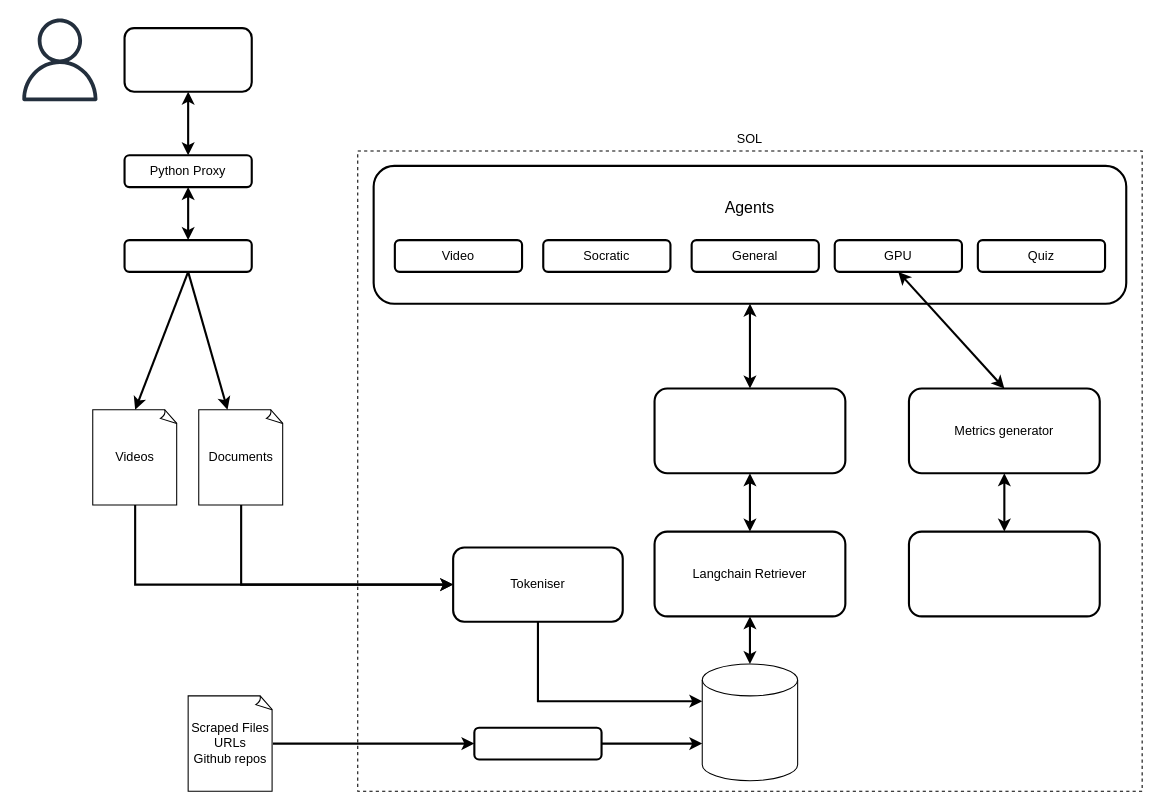
Some shapes in this 1161 by 810 pixel diagram are drawn without their labels. The centre of each missing label's shape, as x and y in pixels:
Angular UI: (187,59)
Chroma Vector Base: (749,722)
Gradio API: (187,255)
Huggingface embedding model: (537,743)
LLM: (749,430)
Sandbox environment: (1003,573)
